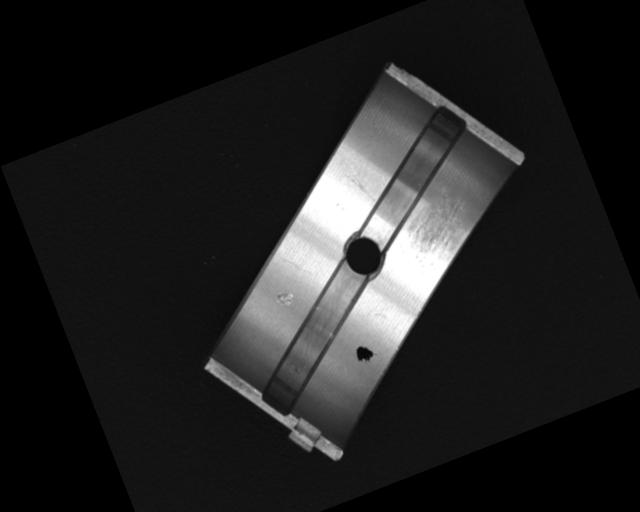blot: (352, 341, 377, 366)
bruise: (272, 288, 297, 310)
gap: (233, 260, 399, 414), (333, 99, 494, 244)
hole: (337, 228, 390, 283)
nick: (343, 162, 376, 210), (283, 251, 314, 283)
scratch: (390, 189, 487, 281)
